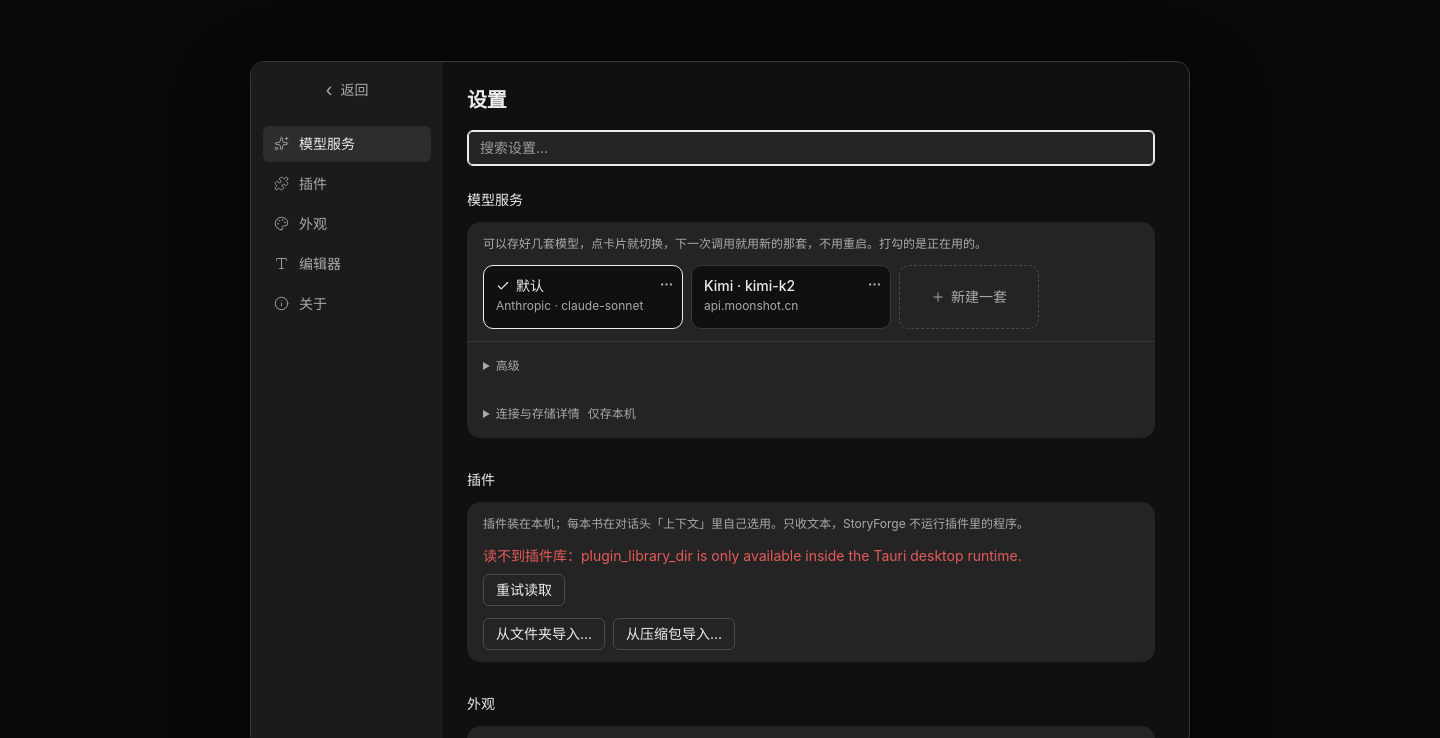
Test: 移除 Key 走确认，只清这一套
Check: the element with test id "model-profile-card" showing "Kimi · kimi-k2 api.moonshot.cn" is shown, box [691,265,891,329]
Click the 2nd button with test id "model-profile-menu" at (874, 284), box [862,272,886,296]
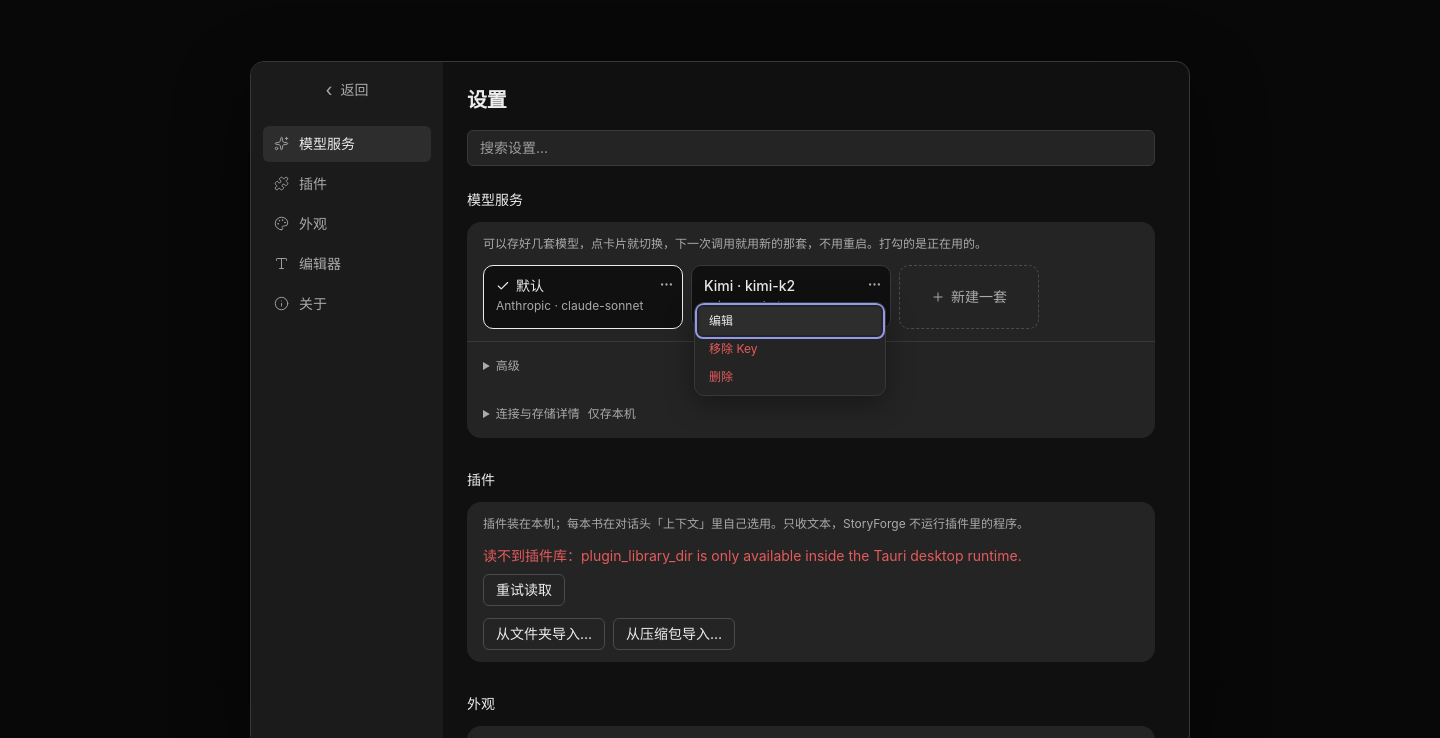
Check: the menu item "移除 Key" is shown
Click the menu item "移除 Key" at (790, 349), box [699,335,881,363]
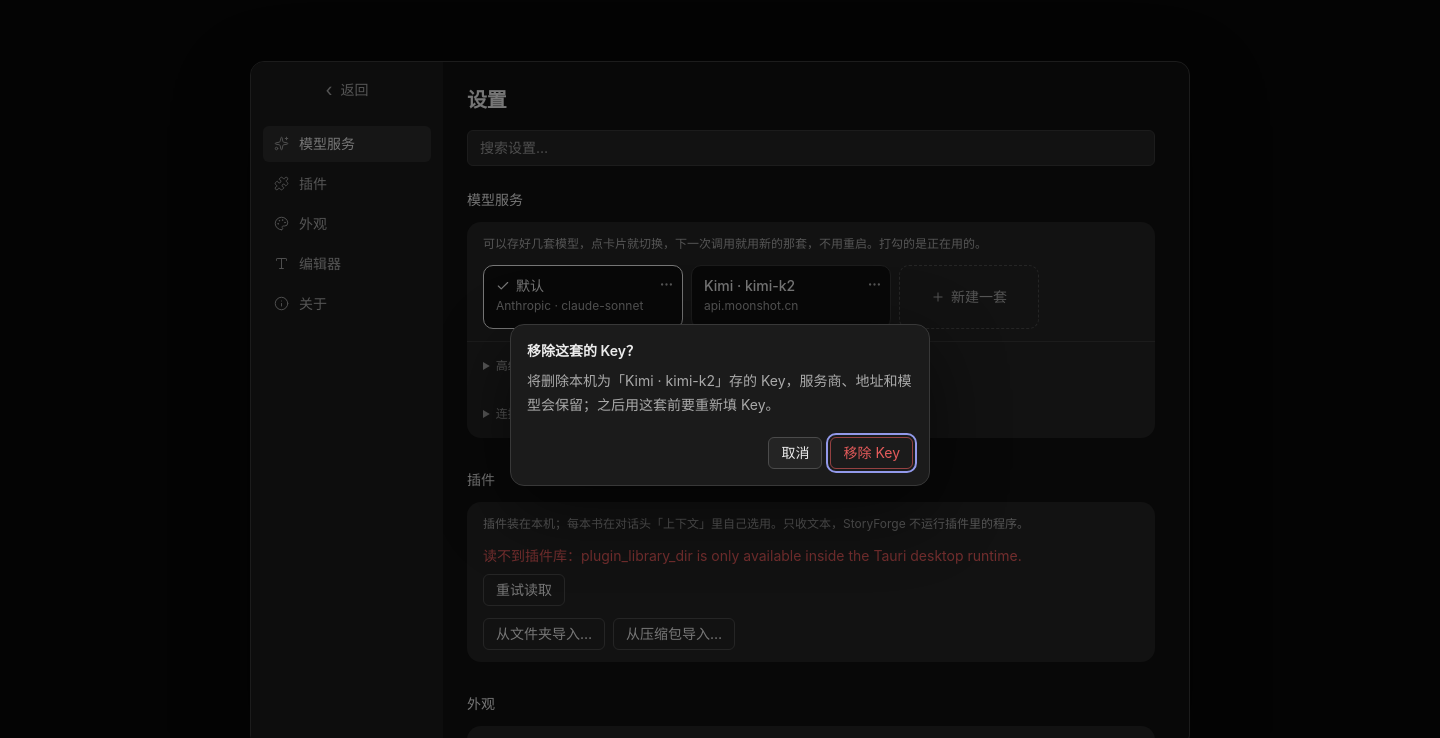
Check: the button "移除 Key" is shown
Check: the dialog with test id "app-dialog" is shown, box [510,324,930,486]
Click the button "移除 Key" at (872, 453), box [830,437,913,469]
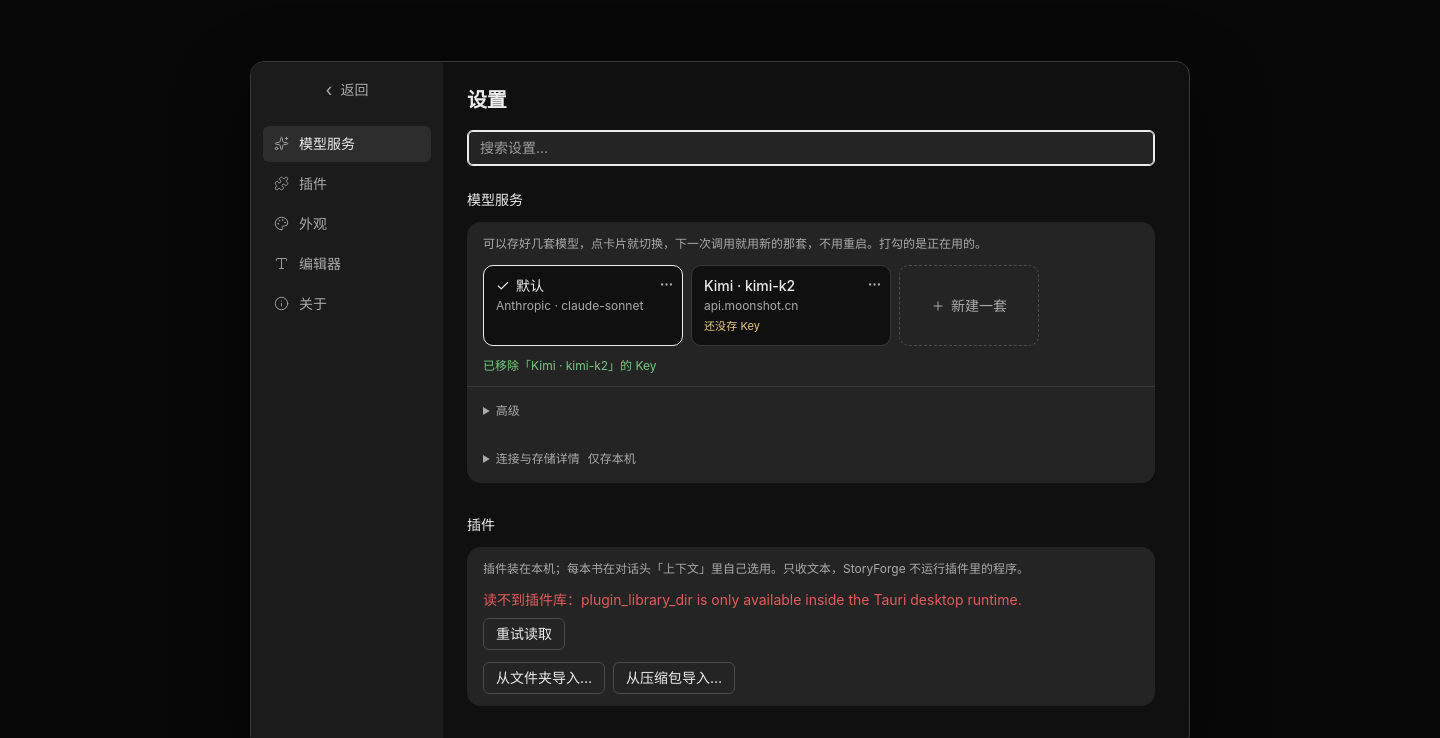
Check: the element with test id "model-profile-card" that starts with "Kimi · kimi-k2" is shown, box [691,265,891,346]
Check: the text with test id "model-profile-status" reads "还没存 Key", box [704,319,760,333]
